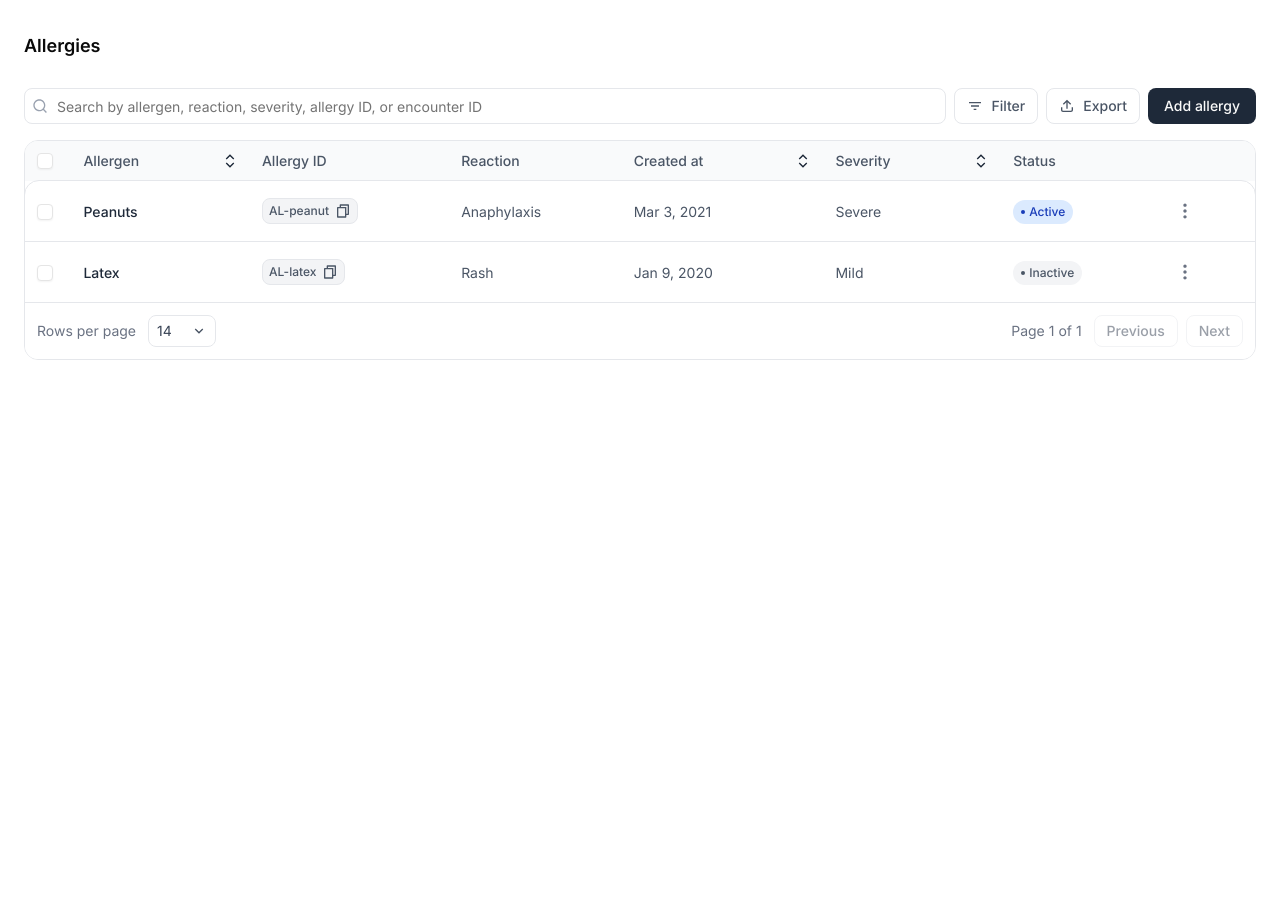
it: Allergies table › selects then clears every row from the header checkbox after one row is ticked
The width and height of the screenshot is (1280, 900).
Click the 2nd checkbox.
click(45, 212)  # box [37,204,53,220]
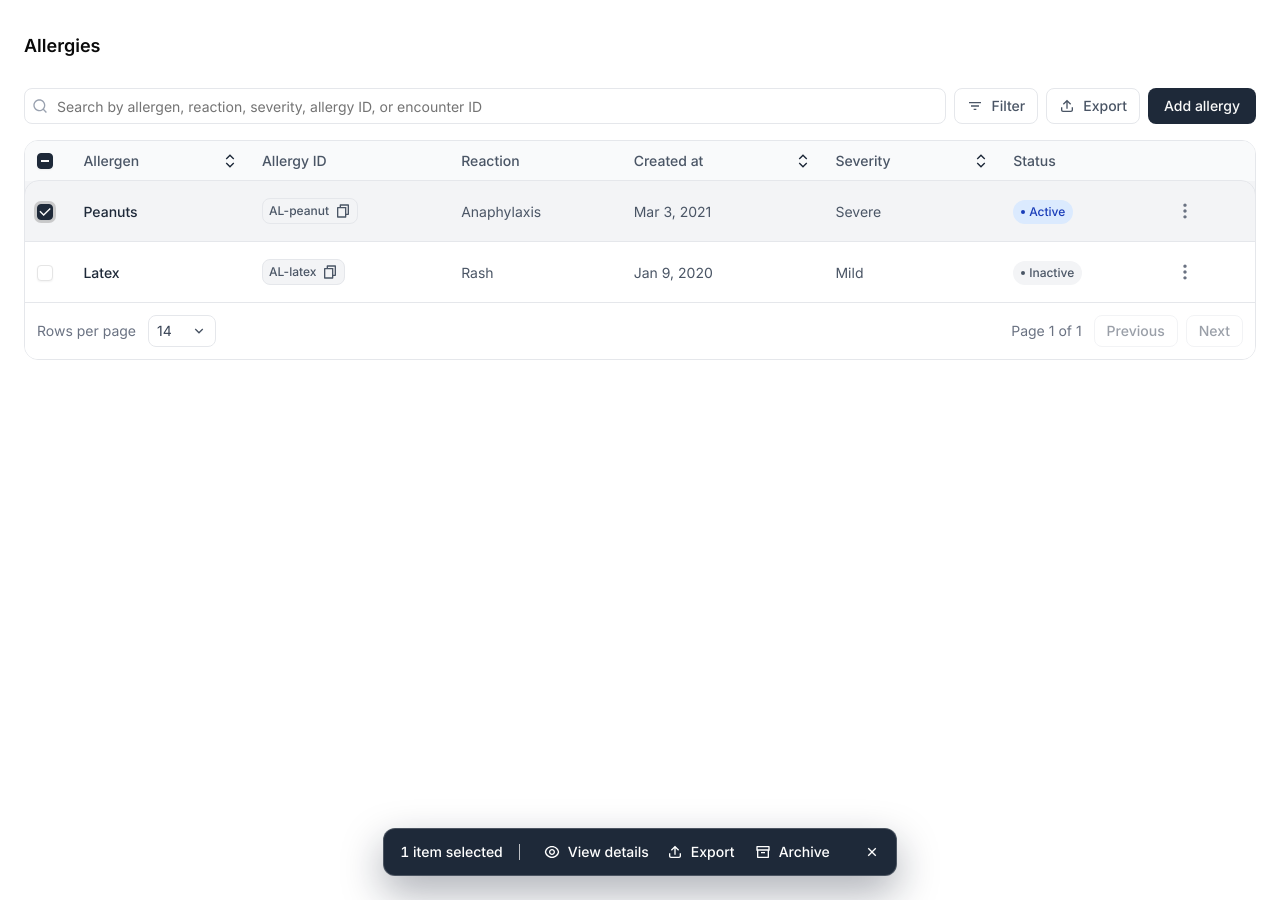
Click the checkbox next to "Allergen".
click(45, 161)  # box [37,153,53,169]
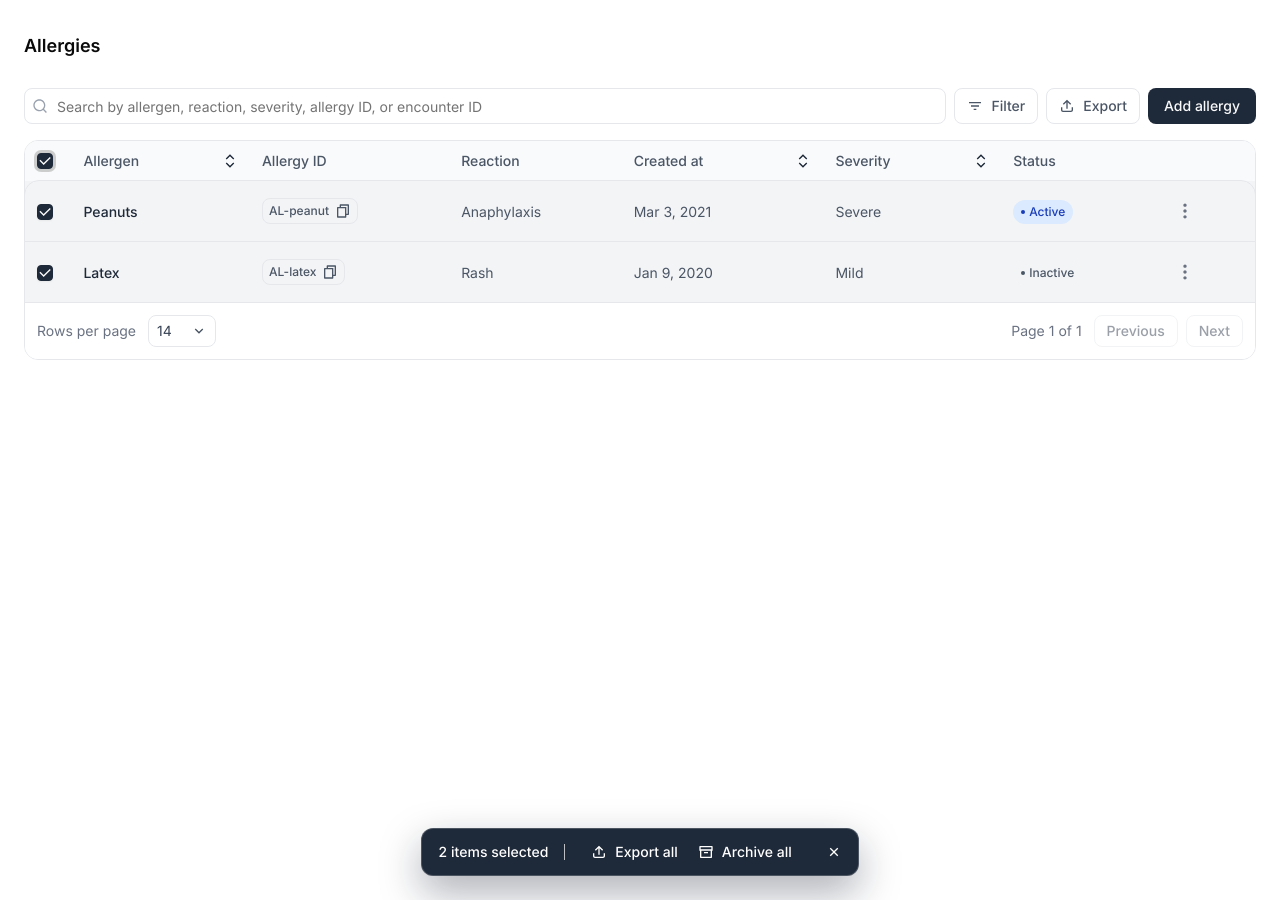
Result: the checkbox next to "Allergen" is checked
Result: the 2nd checkbox is checked at [37,204,53,220]
Result: the 3rd checkbox is checked at [37,265,53,281]
Click the checkbox next to "Allergen".
click(45, 161)  # box [37,153,53,169]
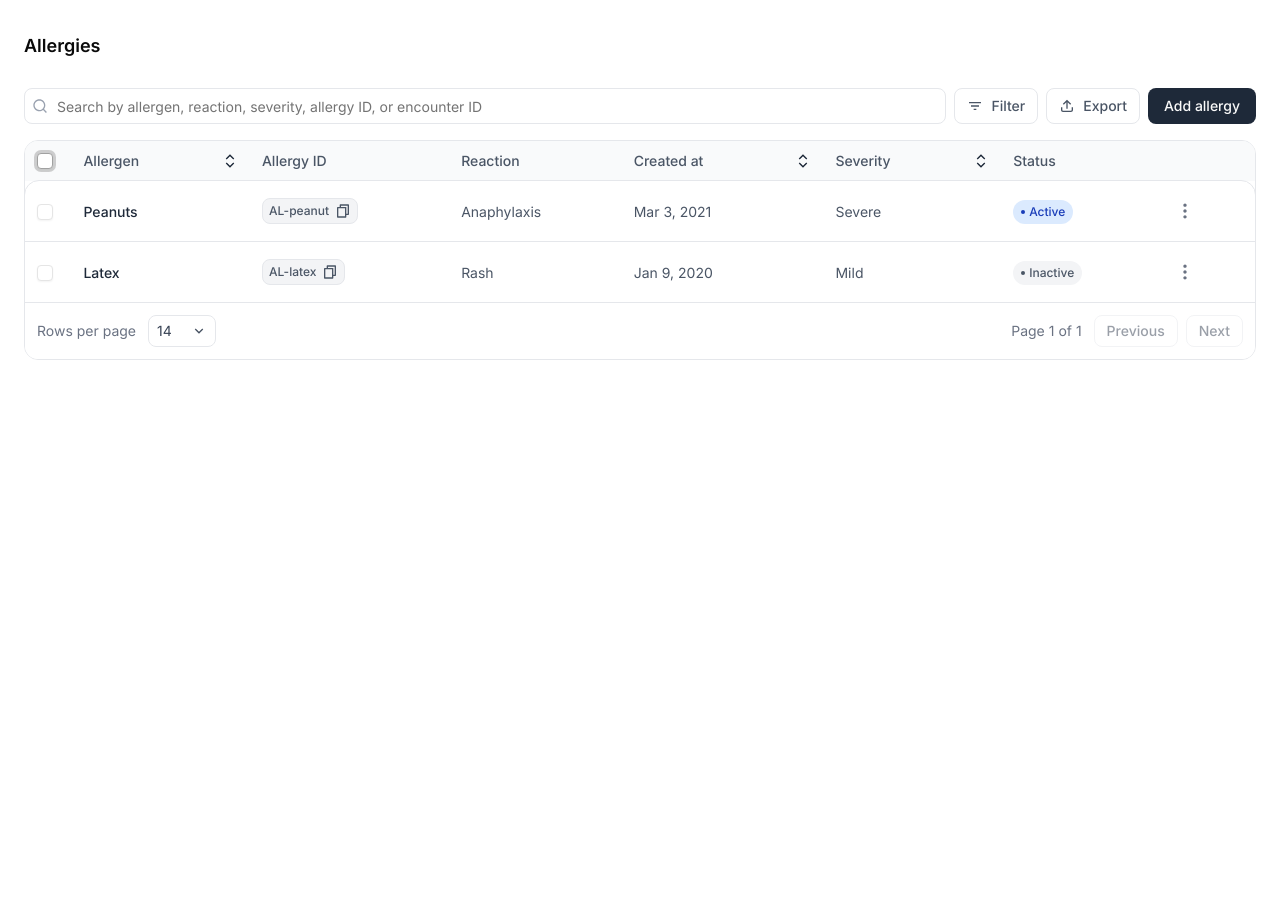
Result: the checkbox next to "Allergen" is not checked at [37,153,53,169]
Result: the 2nd checkbox is not checked at [37,204,53,220]
Result: the 3rd checkbox is not checked at [37,265,53,281]
